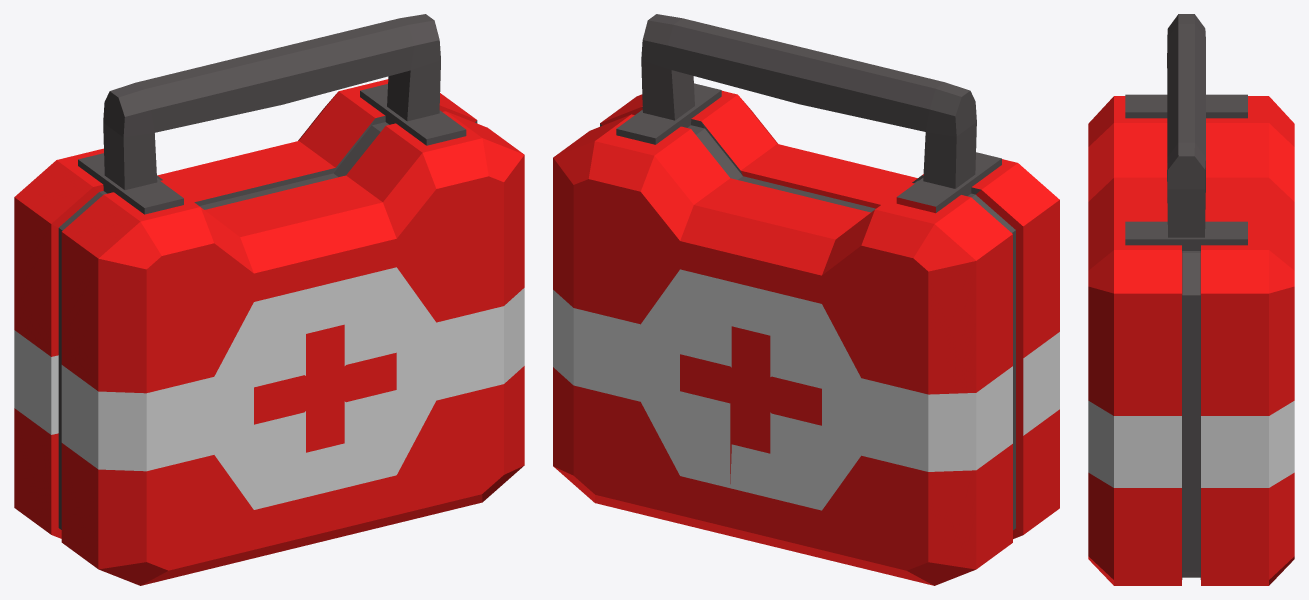
The model's file is Curar.fbx.
The picture shows the model from 3 angles, left to right: view 1: azimuth 30°, elevation 25°; view 2: azimuth 150°, elevation 25°; view 3: azimuth 270°, elevation 25°; orthographic projection. The views are drawn at different scales.
Parts seen in each view (by area): view 1: curar; view 2: curar; view 3: curar.
Part boxes in pixels (box(x1,y1,x2,y2)): curar: box(14, 14, 524, 585); curar: box(553, 14, 1059, 585); curar: box(1088, 14, 1294, 585).
Bounding box in the file's own units: 389 × 403 × 177.
